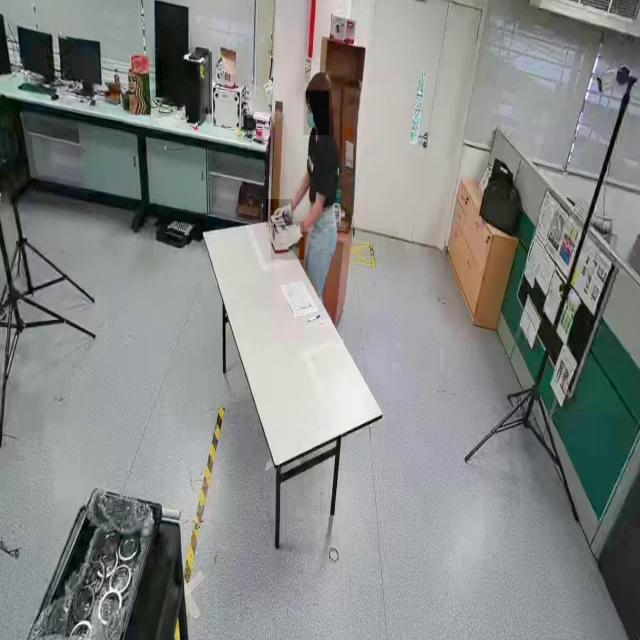face_mask: (303, 91, 329, 135)
hand_glove: (271, 222, 305, 260), (266, 199, 293, 228)
head_nohelmet: (304, 70, 332, 90)
person: (275, 65, 351, 302)
